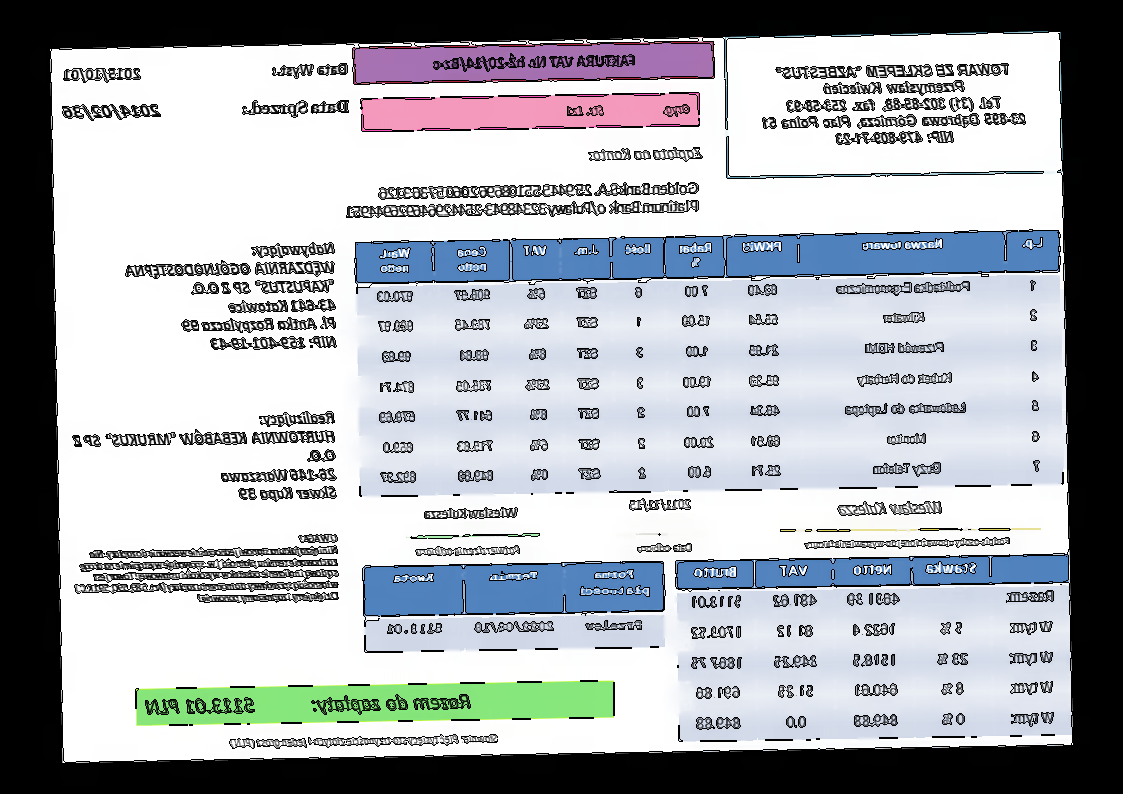Table: (356, 227, 1065, 496), (676, 553, 1072, 742), (362, 560, 667, 653)
TextBox: (71, 408, 338, 505), (121, 241, 338, 355), (758, 61, 1029, 150), (71, 531, 341, 607), (342, 179, 700, 221), (143, 689, 474, 718), (229, 731, 500, 751), (431, 49, 636, 74), (803, 533, 1012, 551), (586, 143, 705, 165), (239, 98, 350, 120), (836, 497, 945, 519), (61, 102, 162, 124), (564, 101, 693, 118), (422, 503, 520, 522), (414, 543, 522, 559), (270, 61, 348, 80), (62, 65, 142, 83), (628, 496, 694, 514), (637, 541, 694, 554)
